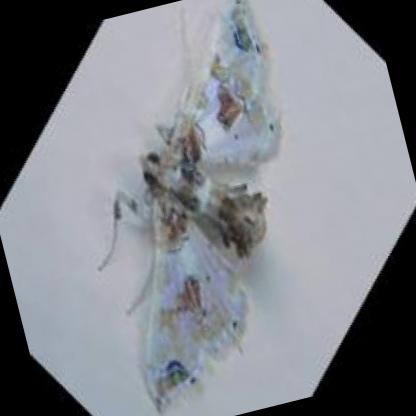leucinodes: (136, 0, 280, 416)
